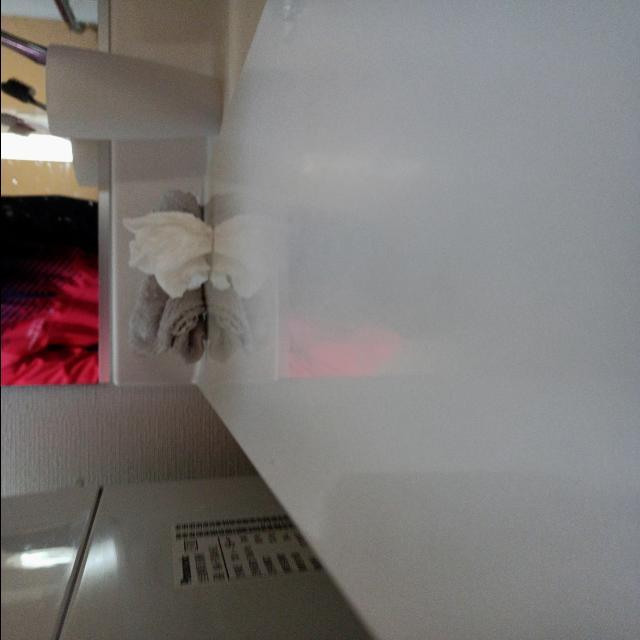Paper: (117, 199, 240, 285)
